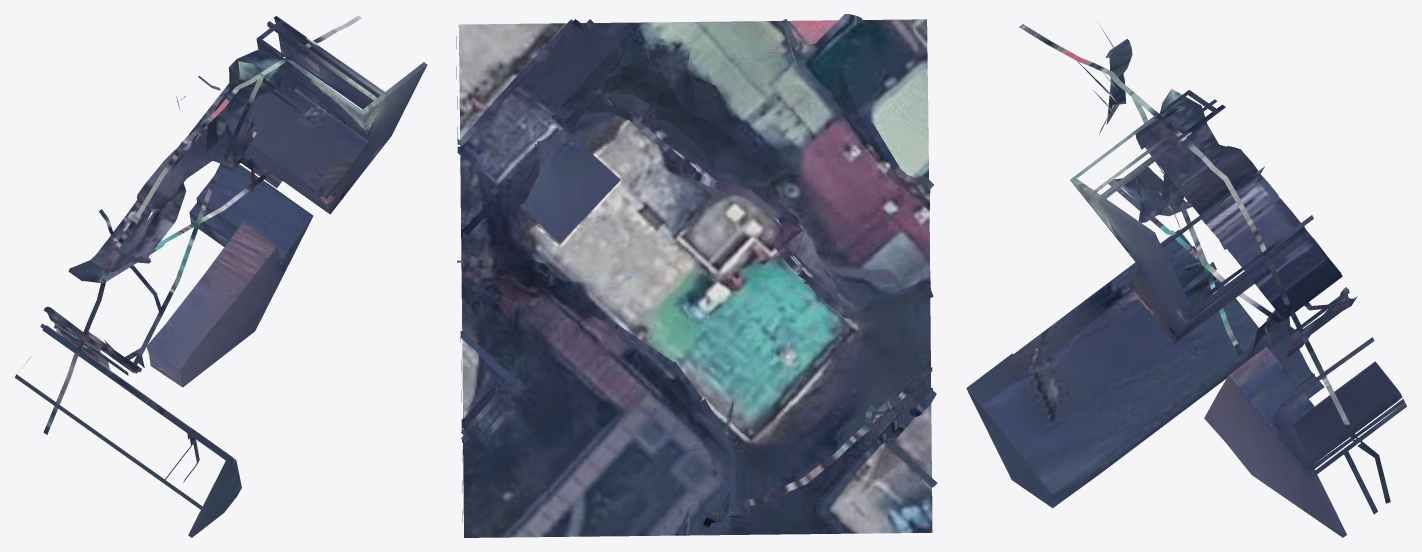
3 renders of one model, left to right at view 1: azimuth 30°, elevation 25°; view 2: azimuth 150°, elevation 25°; view 3: azimuth 270°, elevation 25°, orthographic. The views are drawn at different scales.
Size of the model in its own units: 43.94 by 44.75 by 37.54.
2 materials, 2 textured.
